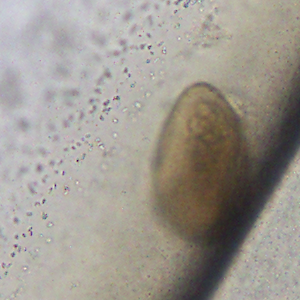Fasciola_hepatica_egg: (151, 80, 249, 247)
